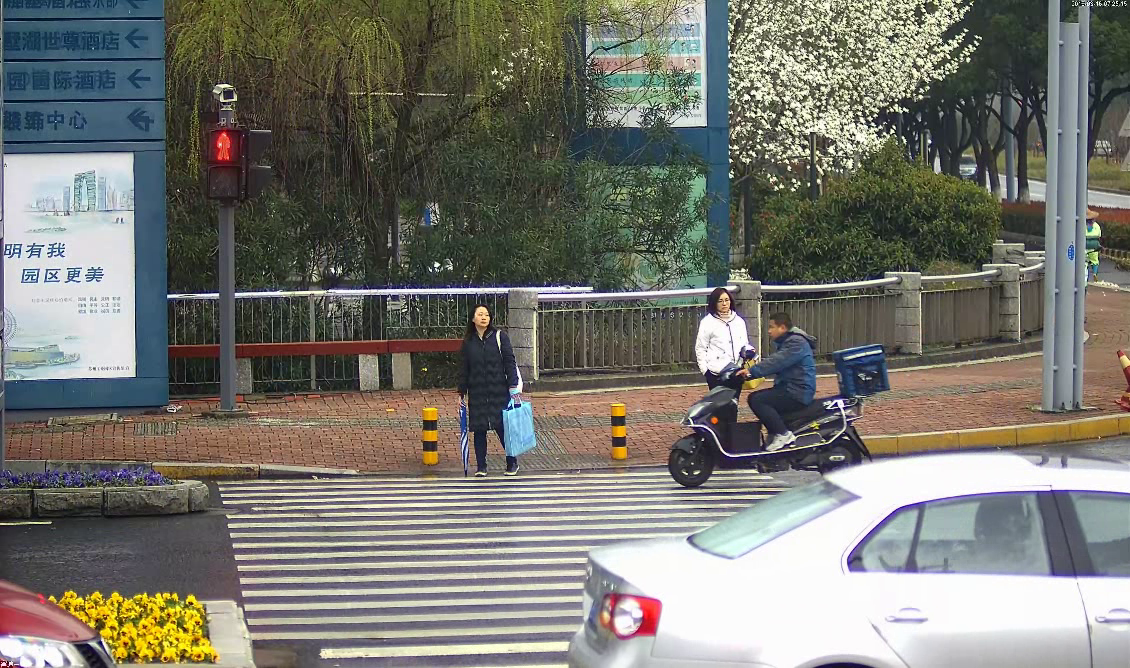person: (449, 300, 536, 477), (742, 312, 826, 460), (691, 283, 757, 430)
